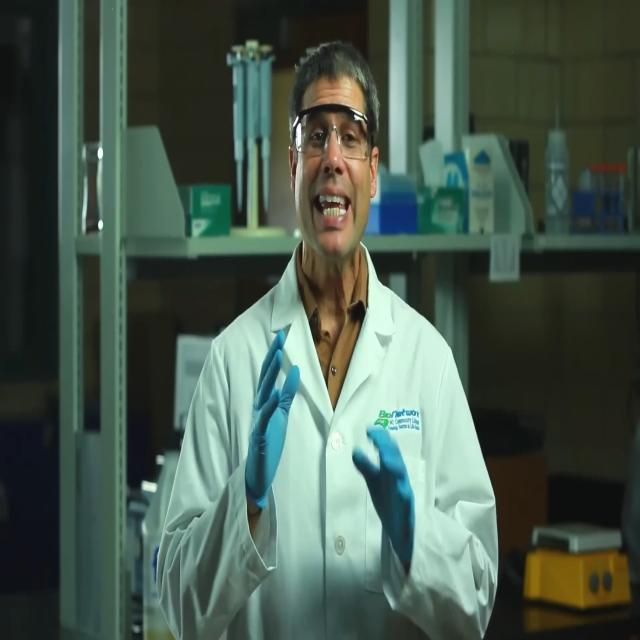googles: (288, 99, 380, 167)
labcoat: (155, 236, 504, 640)
